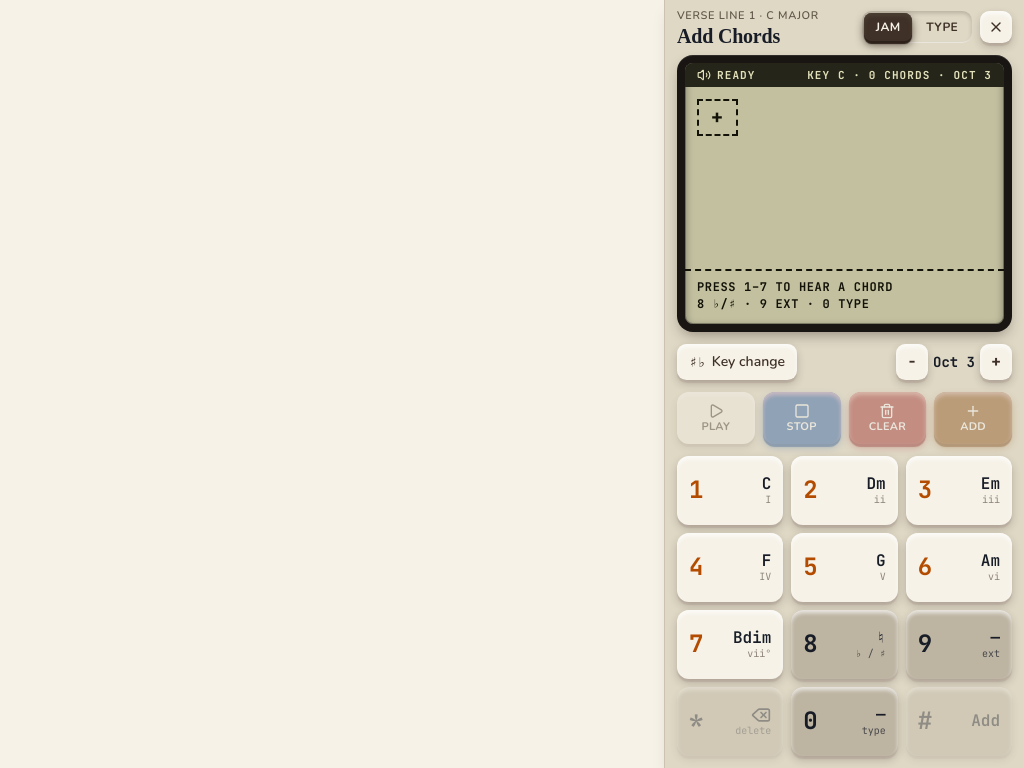
Scenario: JamCanvas › captures number presses in order with the cursor on the newest
The width and height of the screenshot is (1024, 768).
Click the button named "1, ": (730, 490) [677,456,783,525]
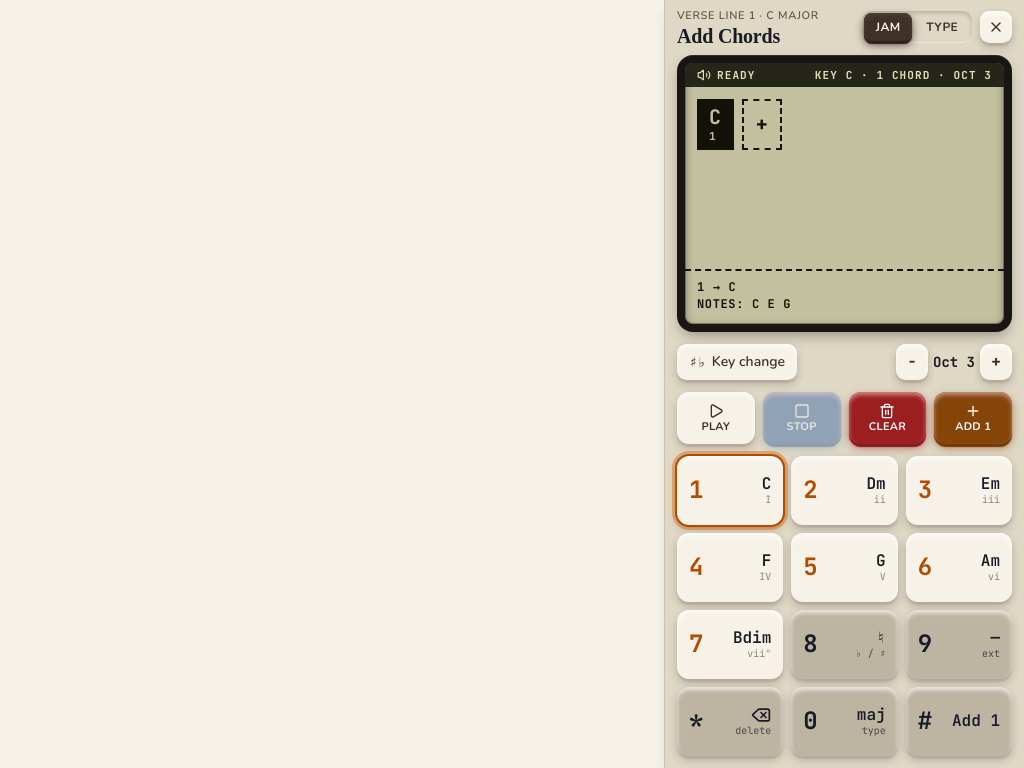
Click the button named "5, ": (844, 567) [791,533,898,602]
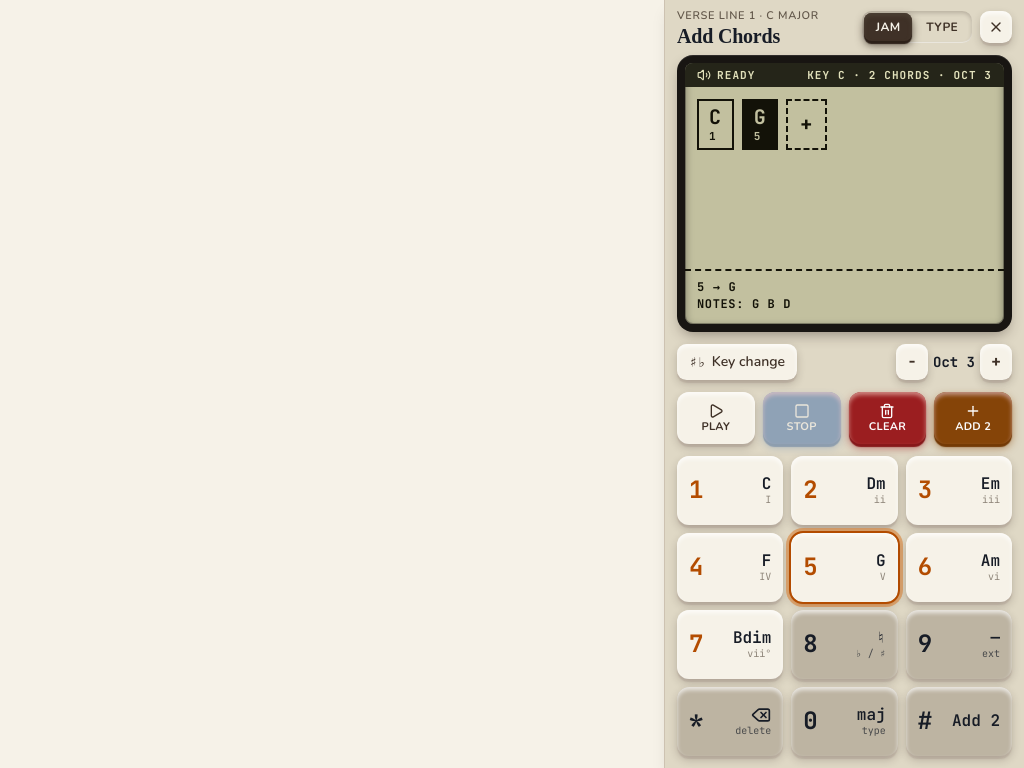
Click the button with aria-label "6, ": (959, 567) [906,533,1012,602]
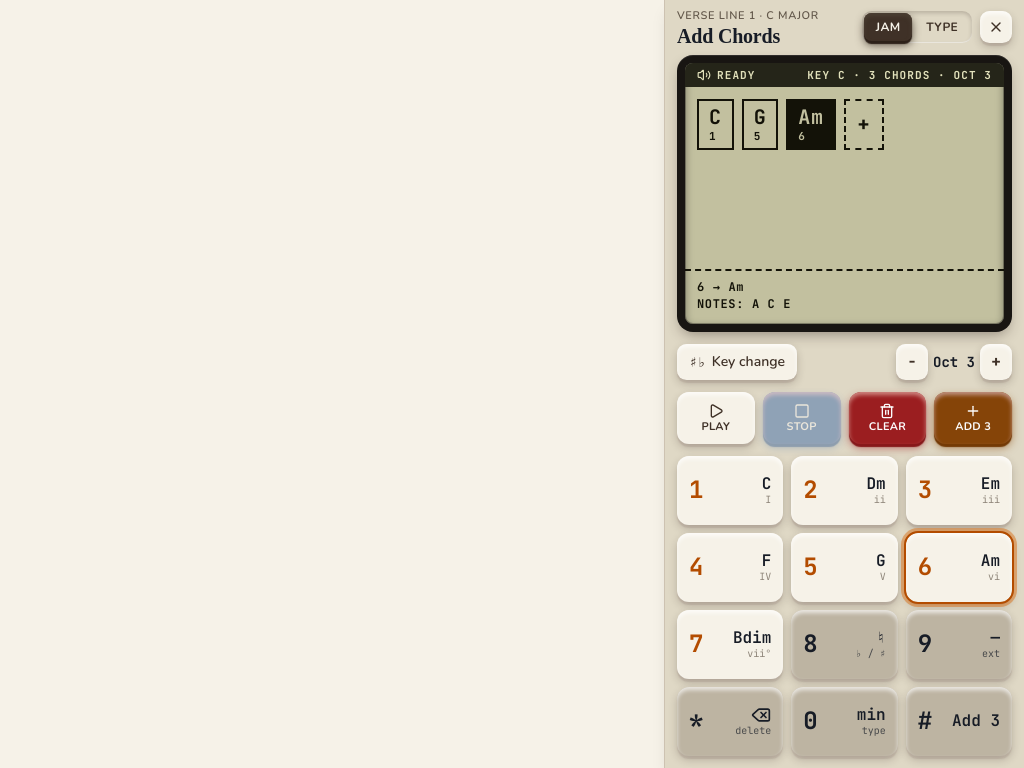
expect the option "Am 6" is shown: met, box [786,99,836,150]
